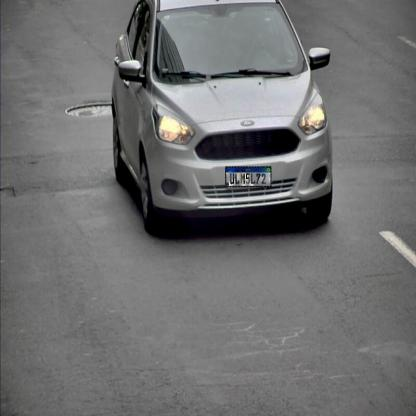PlacaM: (225, 166, 272, 188)
